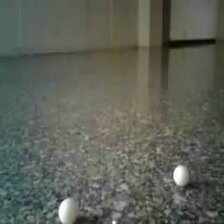w: (57, 198, 80, 224), (171, 165, 190, 187)
